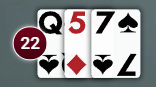5: (63, 8, 90, 37)
7: (90, 8, 118, 37)
q: (36, 8, 64, 37)
